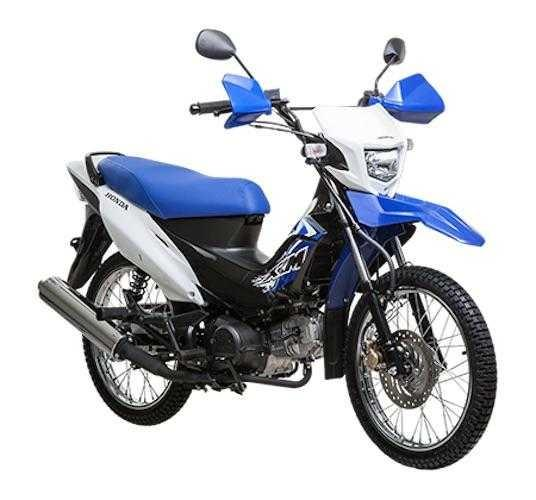motorbike: (38, 28, 497, 470)
